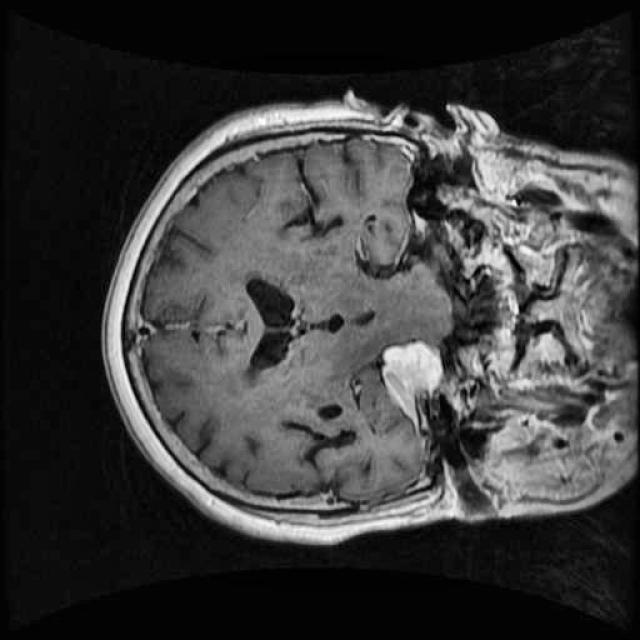Tumor: (374, 332, 466, 436)
